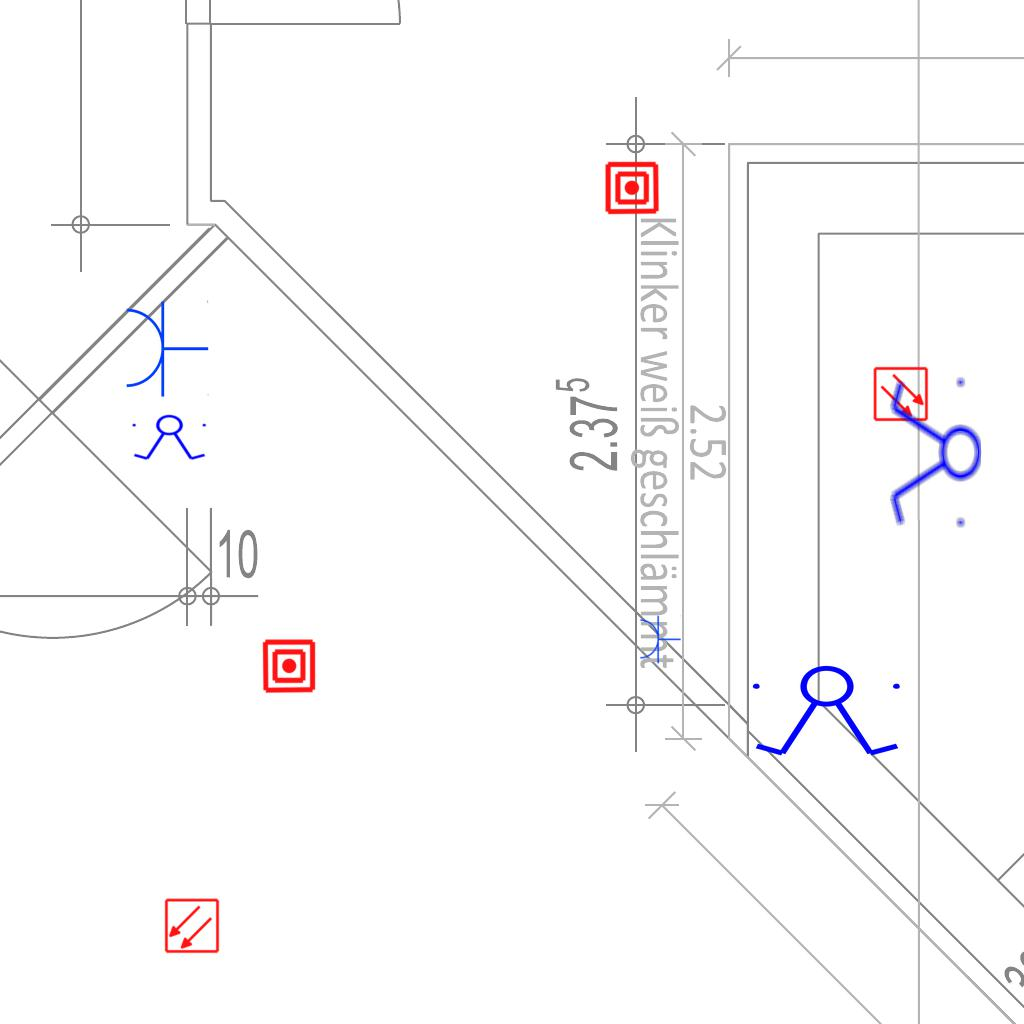NAM-Nichtautomatischer_Melder: (261, 638, 317, 694), (604, 160, 660, 216)
RMO_Rauchmelder_optischer: (873, 366, 929, 422), (164, 898, 220, 954)
Schukosteckdose_einfach: (122, 298, 209, 398), (638, 614, 681, 664)
Serienschalter: (744, 664, 912, 760), (887, 370, 983, 538), (128, 414, 212, 462)
